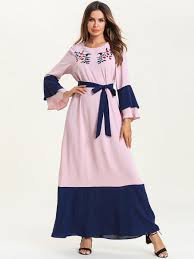middle_eastern_Female: (83, 2, 110, 37)
